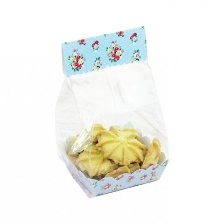snack: (46, 19, 180, 203)
